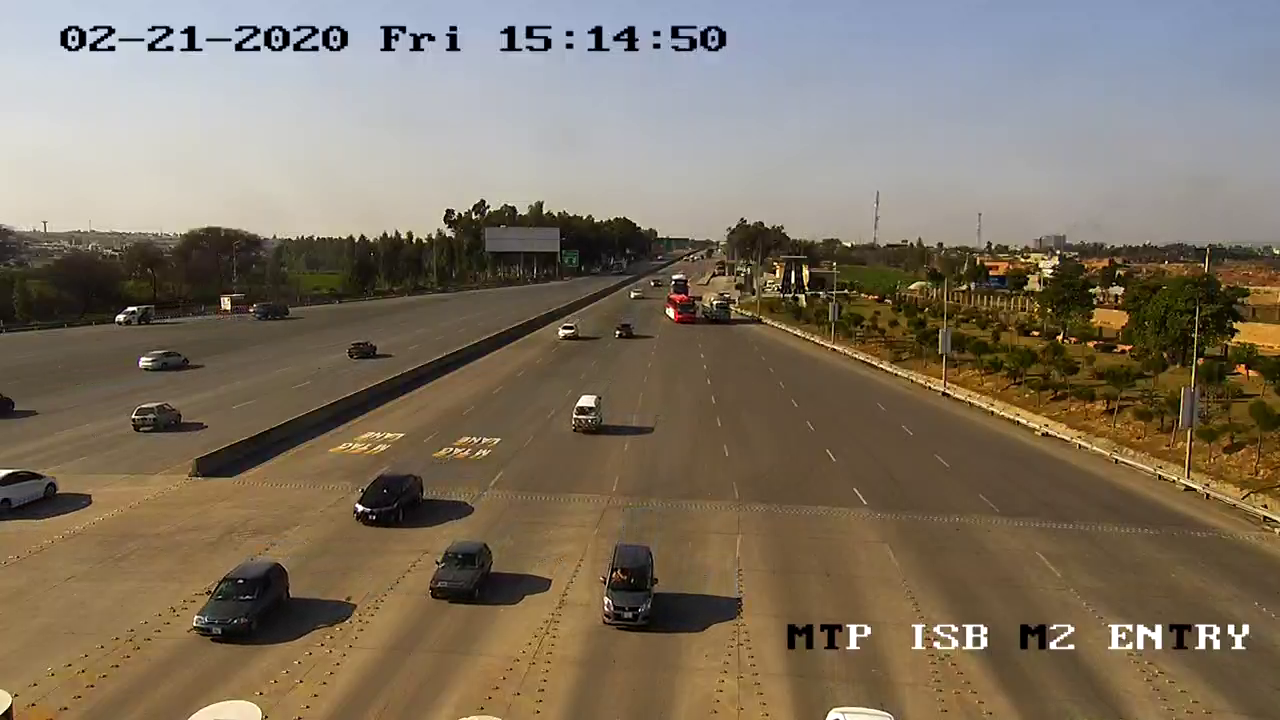f1: (187, 555, 299, 649), (587, 539, 672, 634), (418, 530, 504, 609), (346, 462, 431, 533)
